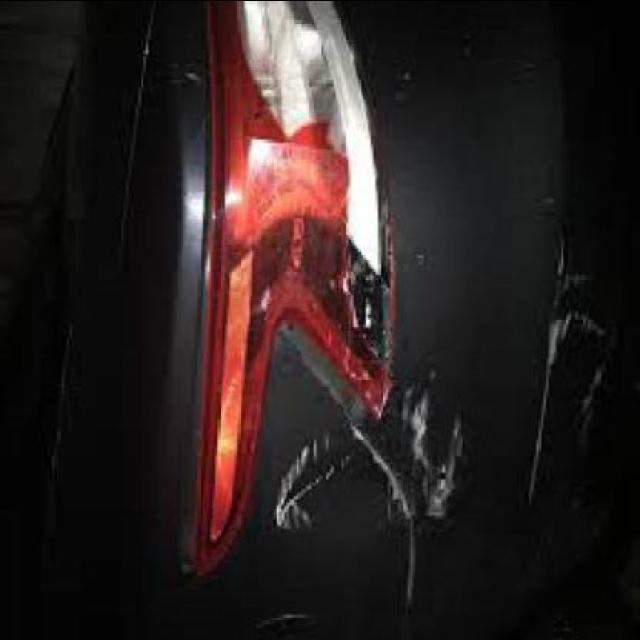Taillight-Damage: (205, 3, 396, 426)
